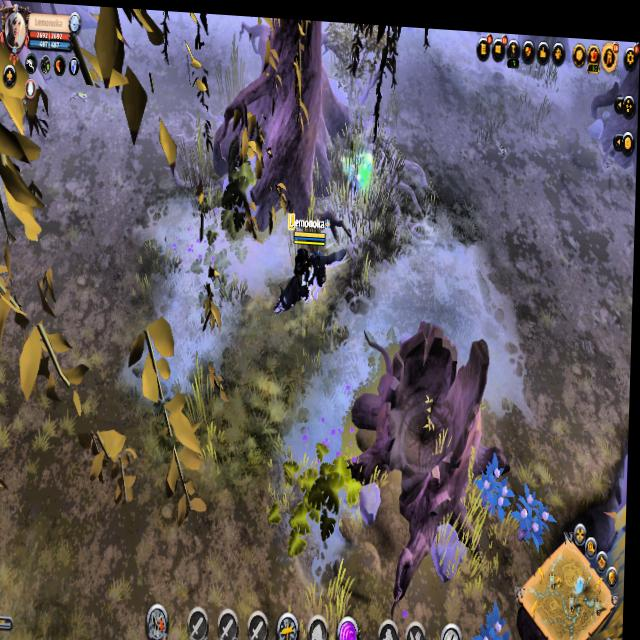fiber tier 4: (515, 473, 561, 550), (477, 445, 518, 520)
